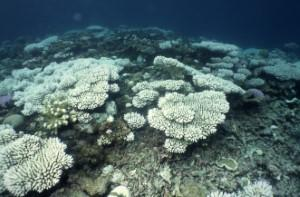bleached_corals: (113, 37, 246, 170), (0, 49, 140, 138), (146, 83, 232, 145), (0, 129, 73, 196), (209, 180, 273, 197)
